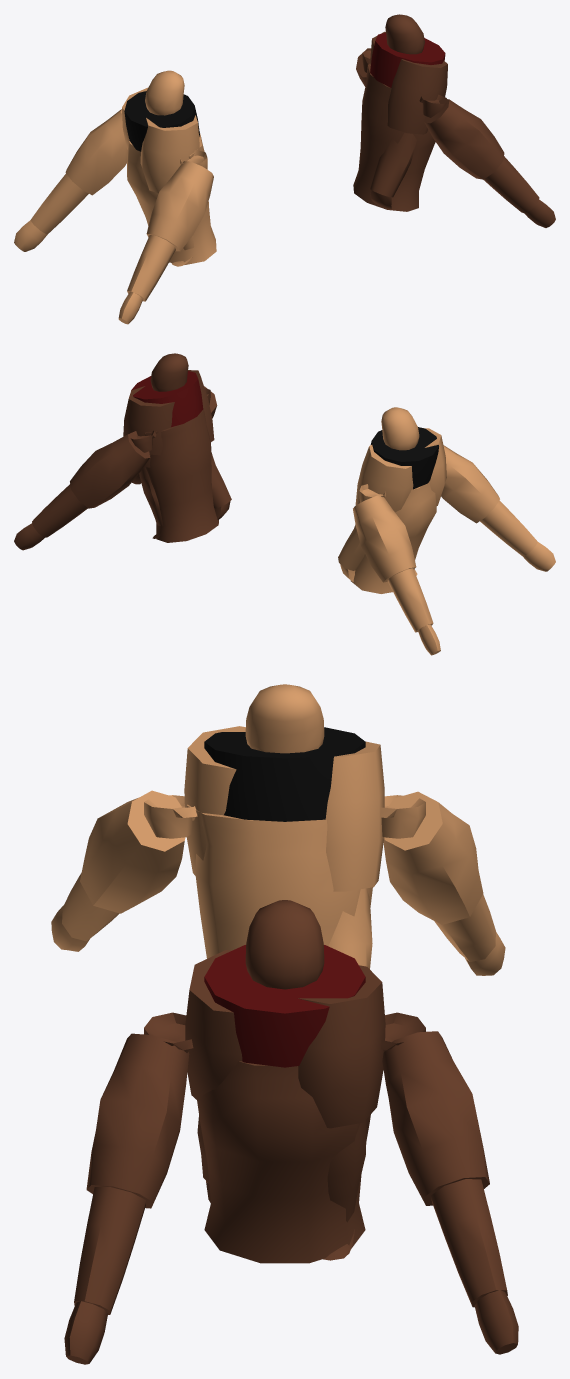
The model's file is yoel-costa.glb.
3 views of the same model, one above another, from view 1: azimuth 30°, elevation 25°; view 2: azimuth 150°, elevation 25°; view 3: azimuth 270°, elevation 25° (orthographic). The views are drawn at different scales.
Parts seen in each view (by area): view 1: B_Torso, A_UpperArm_L, B_UpperArm_R, B_Thigh_R, A_UpperArm_R, A_Thigh_L, A_Torso, A_Shorts, B_Shorts, B_Shin_R, A_Forearm_L, A_Forearm_R (+6 smaller); view 2: B_Torso, A_UpperArm_R, B_UpperArm_L, A_UpperArm_L, A_Torso, A_Thigh_R, A_Shorts, B_Shorts, B_Thigh_L, A_Forearm_R, A_Forearm_L, B_Forearm_L (+10 smaller); view 3: B_Torso, A_Torso, B_UpperArm_R, B_UpperArm_L, B_Shorts, B_Thigh_L, A_Shorts, A_UpperArm_R, A_UpperArm_L, A_Thigh_R, B_Head, B_Forearm_R (+14 smaller).
Boxes of the visible parts, x1,y1,x2,y2 form: B_Torso: [353, 63, 435, 211]; A_UpperArm_L: [146, 161, 213, 251]; B_UpperArm_R: [424, 98, 504, 179]; B_Thigh_R: [387, 59, 447, 134]; A_UpperArm_R: [65, 109, 127, 195]; A_Thigh_L: [140, 115, 199, 193]; A_Torso: [127, 132, 216, 264]; A_Shorts: [124, 91, 199, 151]; B_Shorts: [370, 32, 445, 87]; B_Shin_R: [370, 132, 416, 197]; A_Forearm_L: [127, 235, 175, 301]; A_Forearm_R: [30, 173, 88, 234]; B_Torso: [144, 409, 218, 542]; A_UpperArm_R: [353, 495, 416, 582]; B_UpperArm_L: [70, 433, 150, 508]; A_UpperArm_L: [441, 445, 499, 523]; A_Torso: [350, 481, 436, 593]; A_Thigh_R: [355, 445, 413, 512]; A_Shorts: [370, 427, 438, 489]; B_Shorts: [131, 371, 203, 427]; B_Thigh_L: [123, 386, 174, 467]; A_Forearm_R: [387, 568, 433, 632]; A_Forearm_L: [480, 500, 537, 556]; B_Forearm_L: [32, 484, 87, 537]; B_Torso: [197, 1061, 370, 1263]; A_Torso: [186, 804, 372, 958]; B_UpperArm_R: [86, 1033, 189, 1208]; B_UpperArm_L: [382, 1031, 489, 1205]; B_Shorts: [204, 945, 365, 1067]; B_Thigh_L: [298, 965, 385, 1128]; A_Shorts: [204, 727, 365, 821]; A_UpperArm_R: [383, 791, 483, 924]; A_UpperArm_L: [80, 790, 185, 913]; A_Thigh_R: [325, 741, 384, 891]; B_Head: [245, 900, 324, 989]; B_Forearm_R: [74, 1187, 145, 1314].
Size of the model in its own units: 3.02 by 1.26 by 1.42.
